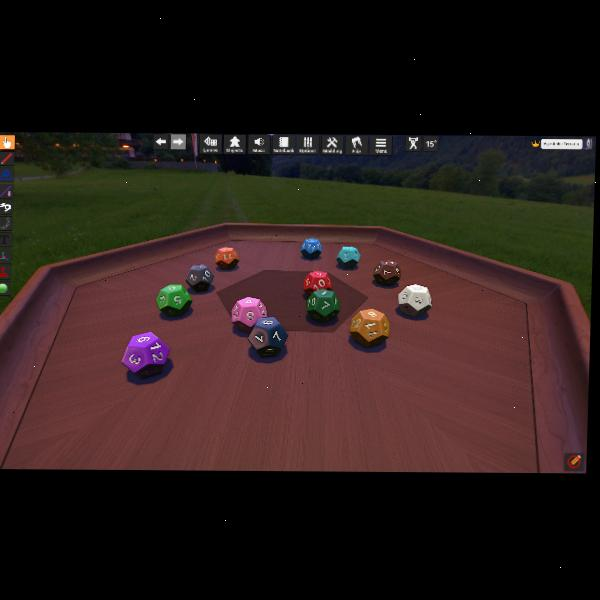d12: (122, 330, 171, 378), (249, 316, 289, 356), (349, 308, 389, 347), (231, 296, 267, 332), (156, 284, 193, 317), (398, 284, 433, 317), (304, 289, 338, 322), (185, 264, 214, 291), (302, 270, 332, 295), (373, 259, 401, 285), (216, 246, 239, 269), (336, 245, 359, 268), (301, 238, 323, 259)
